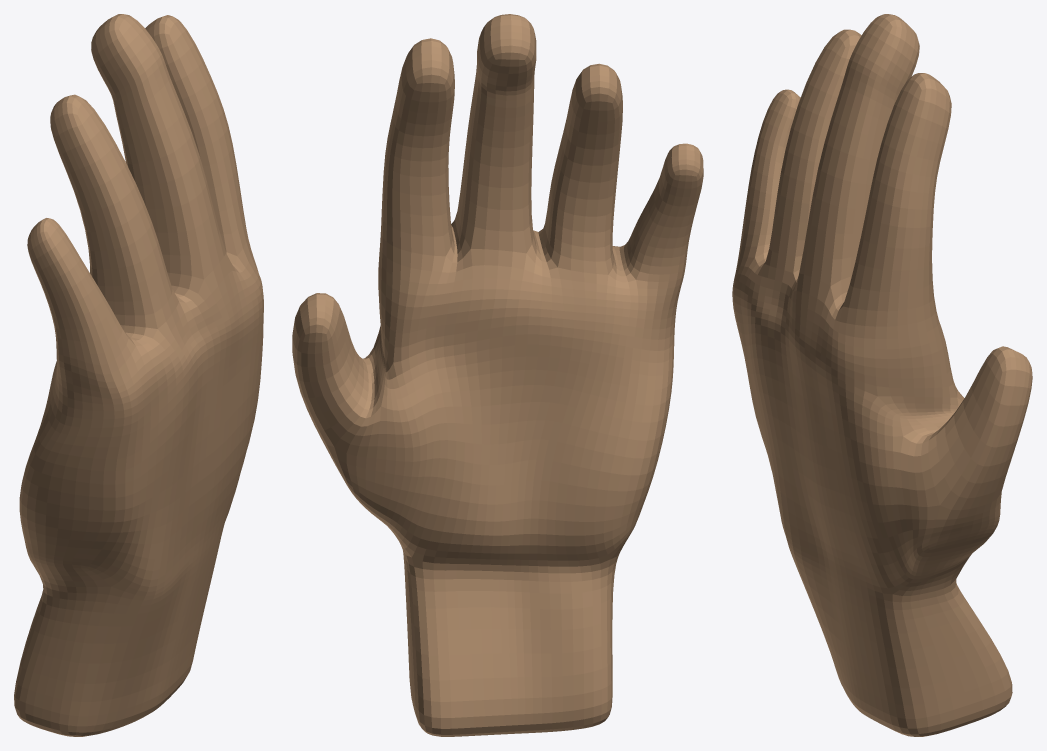
File: basic_hand.glb
3 views of the same model, side by side, from view 1: azimuth 30°, elevation 25°; view 2: azimuth 150°, elevation 25°; view 3: azimuth 270°, elevation 25° (orthographic).
Visible parts, largest first — view 1: Cubo_2; view 2: Cubo_2; view 3: Cubo_2.
Boxes of the visible parts, x1=… form: Cubo_2: x1=14, y1=14, x2=263, y2=736; Cubo_2: x1=292, y1=14, x2=703, y2=736; Cubo_2: x1=732, y1=14, x2=1032, y2=736.
Bounding box in the file's own units: 2.06 × 4.5 × 1.76.
